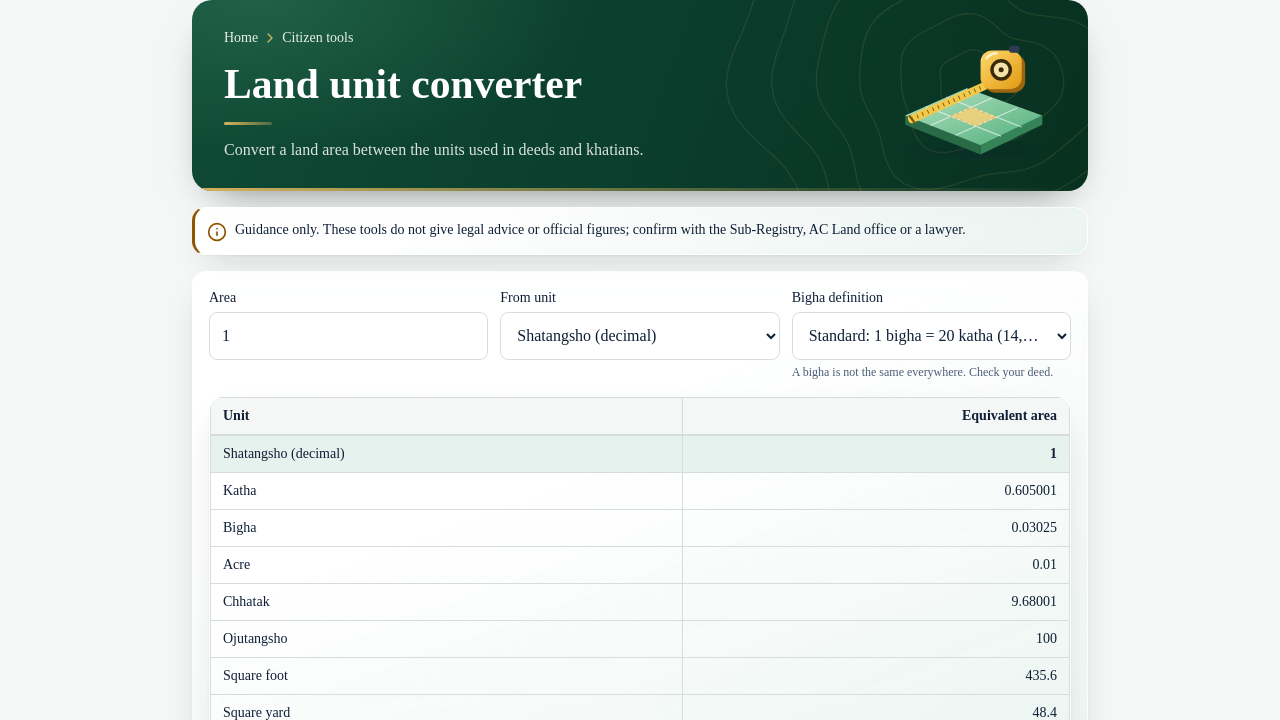
it: empty input › unit converter: untouched is fine, an emptied field shows the error
Expected: the text "Enter a number, for example 12.5" is not shown
Clear the field labelled "Area": (349, 336) [209,312,488,360]
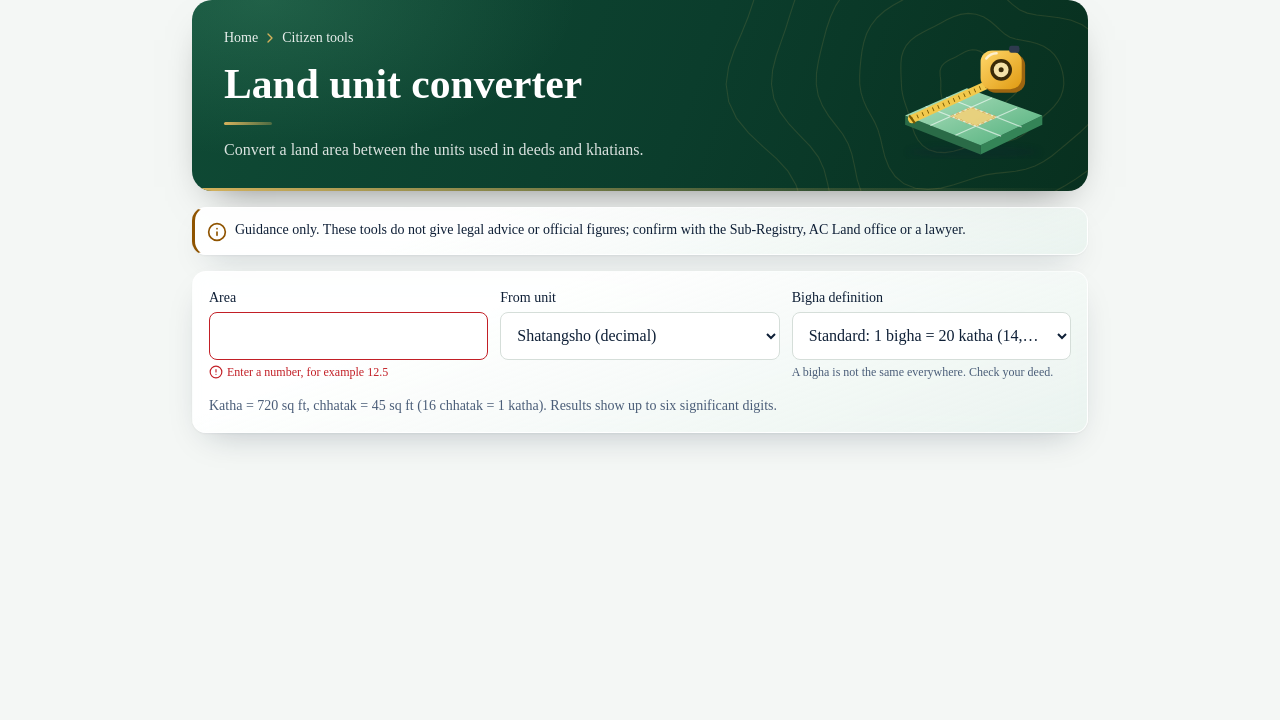
Expected: the text "Enter a number, for example 12.5" is shown, [227,364,388,380]
